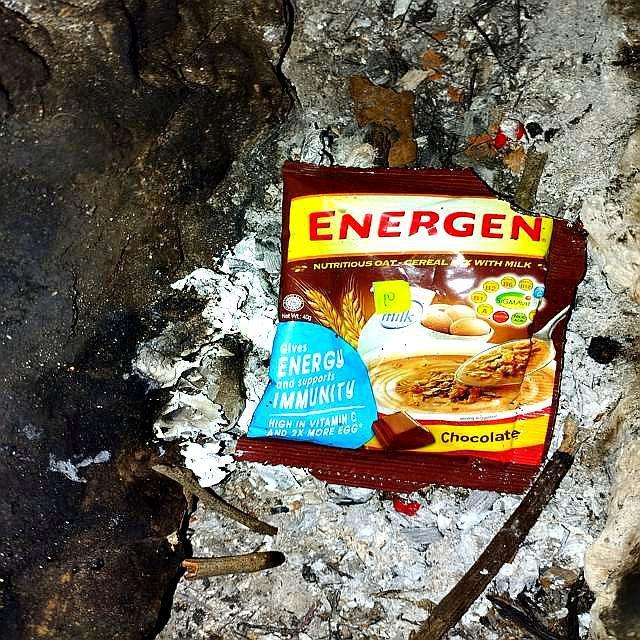Non-biodegradable: (235, 159, 591, 507)
